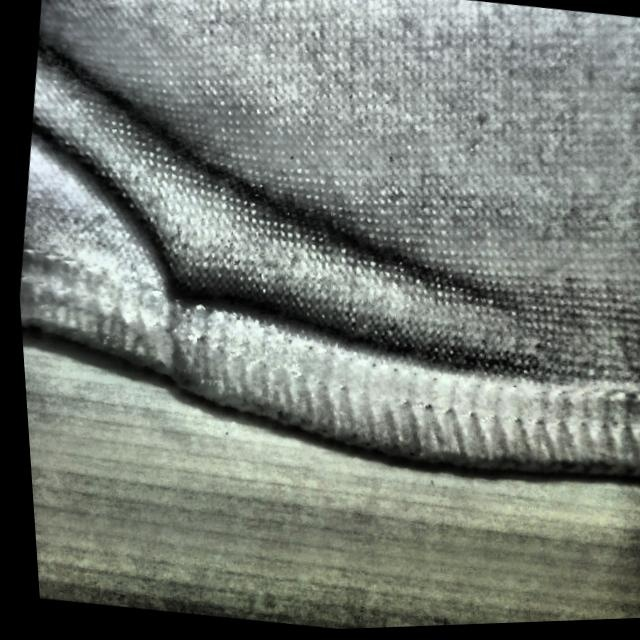seam: (60, 135, 367, 434)
